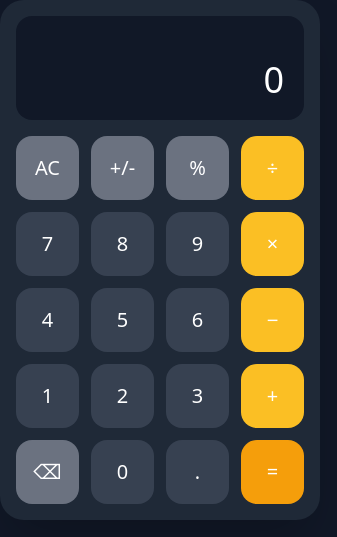
Test: Calculator – multiplication › multiplies two numbers
Click the button "6" at (198, 320), box [166,288,229,352]
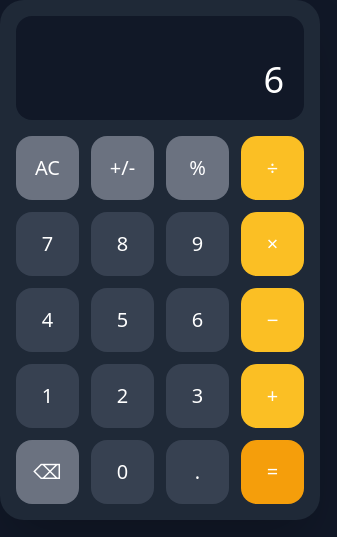
Click the button "×" at (272, 244), box [241,212,304,276]
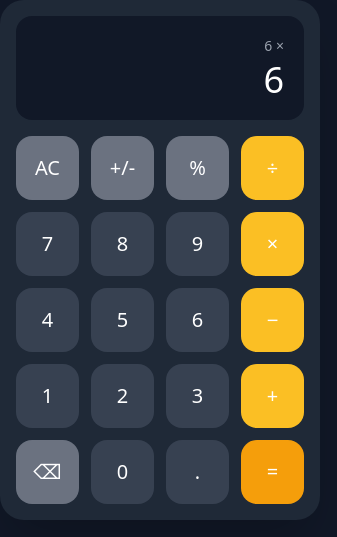
Click the button "7" at (48, 244), box [16,212,79,276]
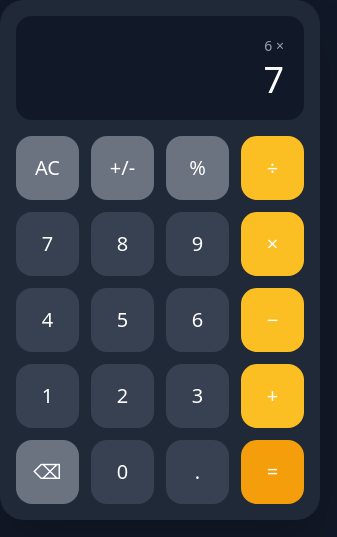
Click the button "=" at (272, 472), box [241,440,304,504]
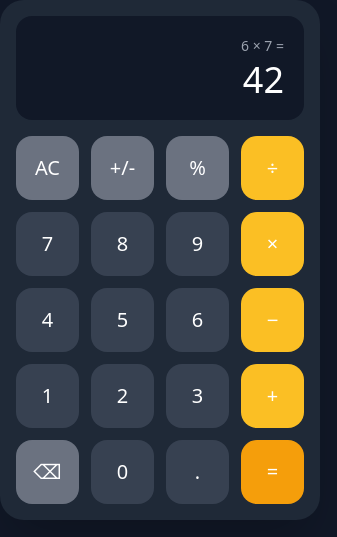
Now the text "42" is shown, box [243,55,284,104]
